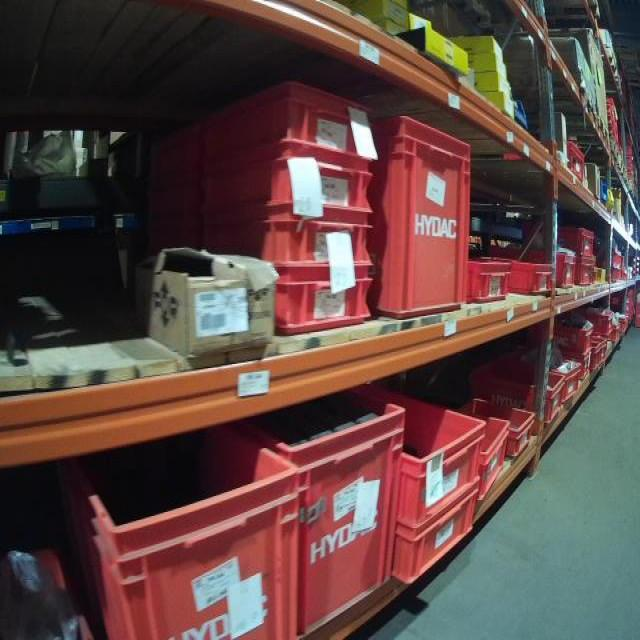small_load_carrier: (85, 434, 311, 639), (242, 392, 403, 630), (363, 115, 470, 318), (197, 80, 377, 166), (394, 396, 487, 530), (199, 147, 374, 217), (387, 485, 485, 579), (197, 216, 375, 262), (264, 268, 374, 333), (467, 355, 562, 421), (469, 406, 511, 498), (487, 253, 553, 300), (529, 310, 591, 353), (533, 221, 597, 258), (495, 401, 535, 459), (465, 261, 513, 303), (532, 243, 574, 291), (546, 358, 581, 399), (571, 346, 601, 373), (586, 310, 611, 338), (576, 258, 597, 290), (569, 139, 584, 181), (588, 338, 607, 371), (582, 353, 591, 387)
